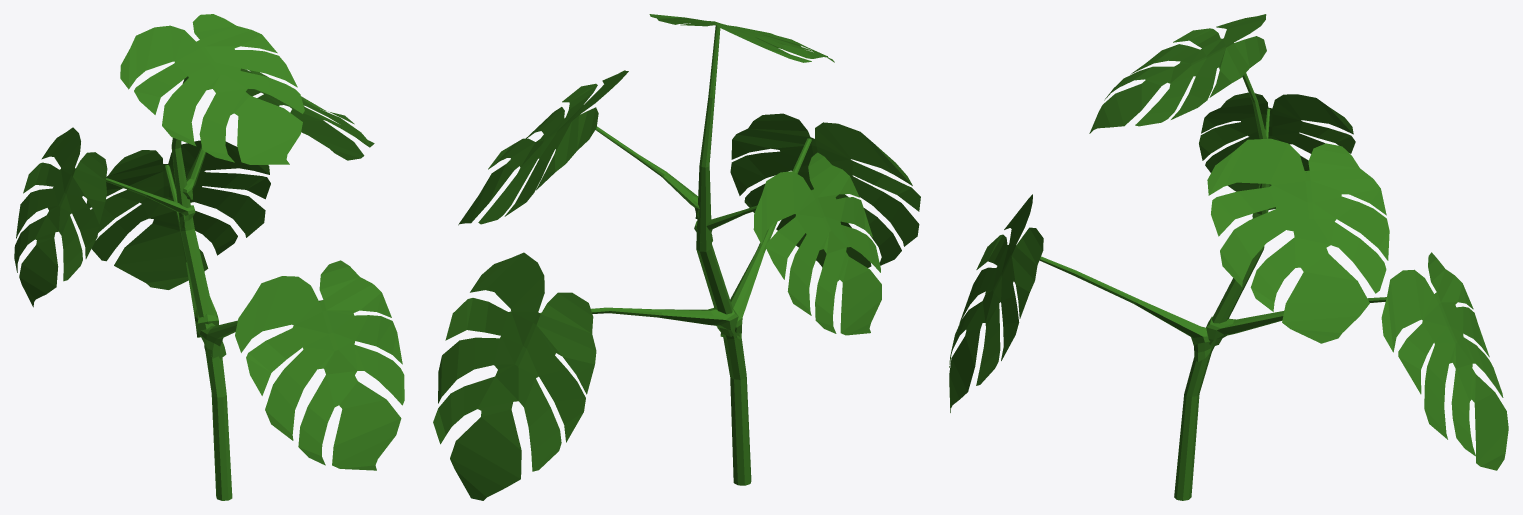
File: SplitLeaf_Philodendron_03.fbx
The picture shows the model from 3 angles, left to right: view 1: azimuth 30°, elevation 25°; view 2: azimuth 150°, elevation 25°; view 3: azimuth 270°, elevation 25°; orthographic projection. The views are drawn at different scales.
Parts seen in each view (by area): view 1: SplitLeaf_Philodendron_03; view 2: SplitLeaf_Philodendron_03; view 3: SplitLeaf_Philodendron_03.
Boxes of the visible parts, x1,y1,x2,y2 form: SplitLeaf_Philodendron_03: [14, 14, 404, 500]; SplitLeaf_Philodendron_03: [433, 14, 920, 500]; SplitLeaf_Philodendron_03: [949, 14, 1508, 500].
Bounding box in the file's own units: 72.68 × 90.69 × 98.81.
